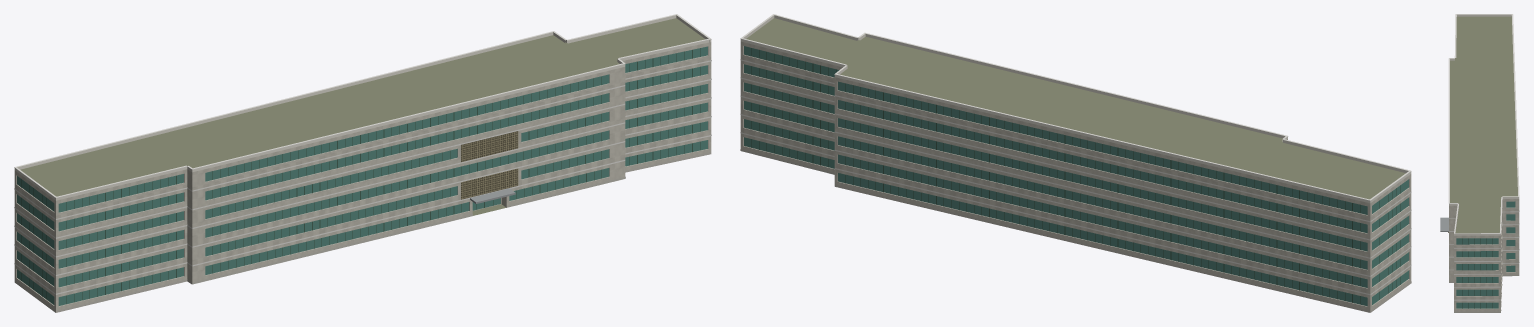
3 renders of one model, left to right at view 1: azimuth 30°, elevation 25°; view 2: azimuth 150°, elevation 25°; view 3: azimuth 270°, elevation 25°, orthographic. The views are drawn at different scales.
Parts seen in each view (by area): view 1: eng1__wall, eng1__glass, eng1__roof, eng1__trim, eng1__parapet, eng1__frame, eng1__screen, eng1__base; view 2: eng1__wall, eng1__glass, eng1__roof, eng1__trim, eng1__frame, eng1__parapet, eng1__base; view 3: eng1__roof, eng1__wall, eng1__glass, eng1__trim, eng1__parapet, eng1__frame, eng1__base, eng1__canopy.
Part boxes in pixels (x1,y1,x2,y2): eng1__wall: [14, 42, 711, 312]; eng1__glass: [17, 46, 707, 305]; eng1__roof: [20, 18, 704, 215]; eng1__trim: [14, 14, 711, 294]; eng1__parapet: [14, 15, 711, 200]; eng1__frame: [21, 48, 700, 303]; eng1__screen: [461, 131, 518, 199]; eng1__base: [14, 152, 711, 312]; eng1__wall: [740, 41, 1411, 312]; eng1__glass: [744, 46, 1408, 306]; eng1__roof: [746, 18, 1405, 199]; eng1__trim: [740, 14, 1411, 295]; eng1__frame: [751, 48, 1400, 304]; eng1__parapet: [740, 15, 1411, 203]; eng1__base: [740, 149, 1411, 312]; eng1__roof: [1450, 16, 1517, 233]; eng1__wall: [1449, 199, 1519, 311]; eng1__glass: [1456, 201, 1515, 308]; eng1__trim: [1448, 14, 1519, 300]; eng1__parapet: [1449, 14, 1519, 235]; eng1__frame: [1462, 238, 1492, 308]; eng1__base: [1449, 274, 1519, 312]; eng1__canopy: [1440, 217, 1448, 231].
Bounding box in the file's own units: 136 × 22.8 × 20.63.
11 materials, 3 textured.
